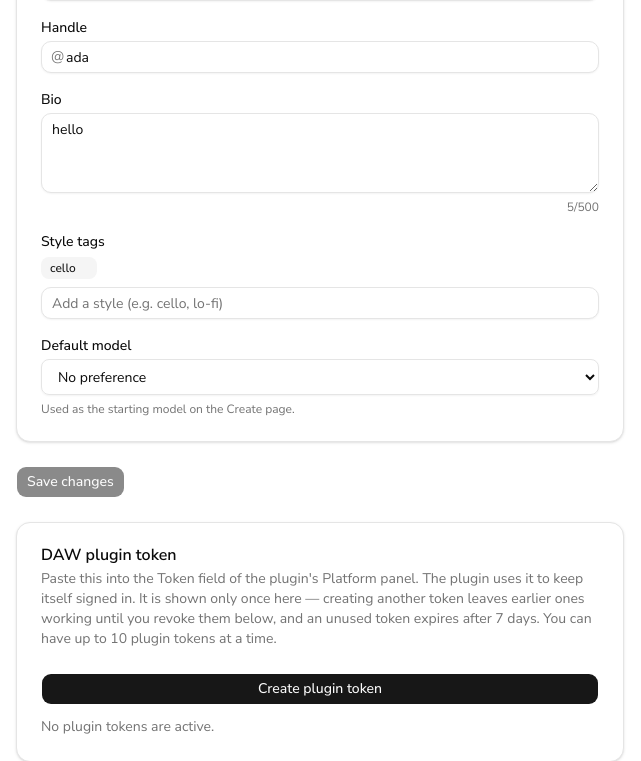
SettingsPage › saves the chosen default model (US-16.4)
(page scrolled)
Select "Latest Model (XL) (Pro)" in the dropdown labelled "Default model" at (320, 377), box x1=41 y1=359 x2=599 y2=395
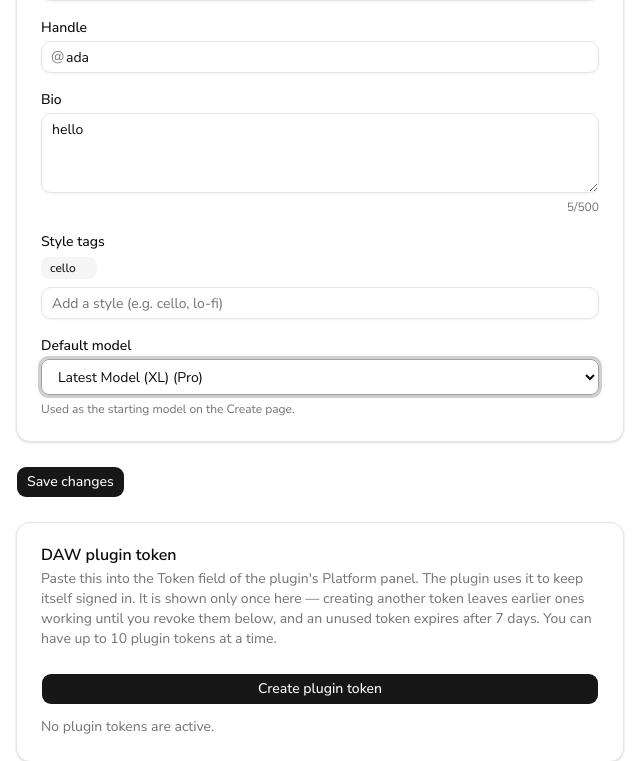
Click the button "Save changes".
click(70, 482)  # box x1=16 y1=466 x2=125 y2=498
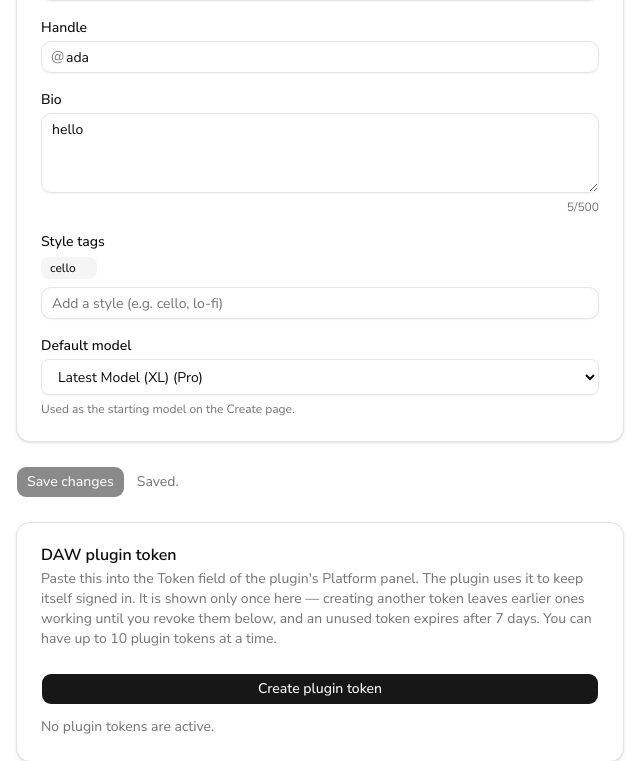
Expected: the message reads "Saved.", x1=137 y1=472 x2=179 y2=491
